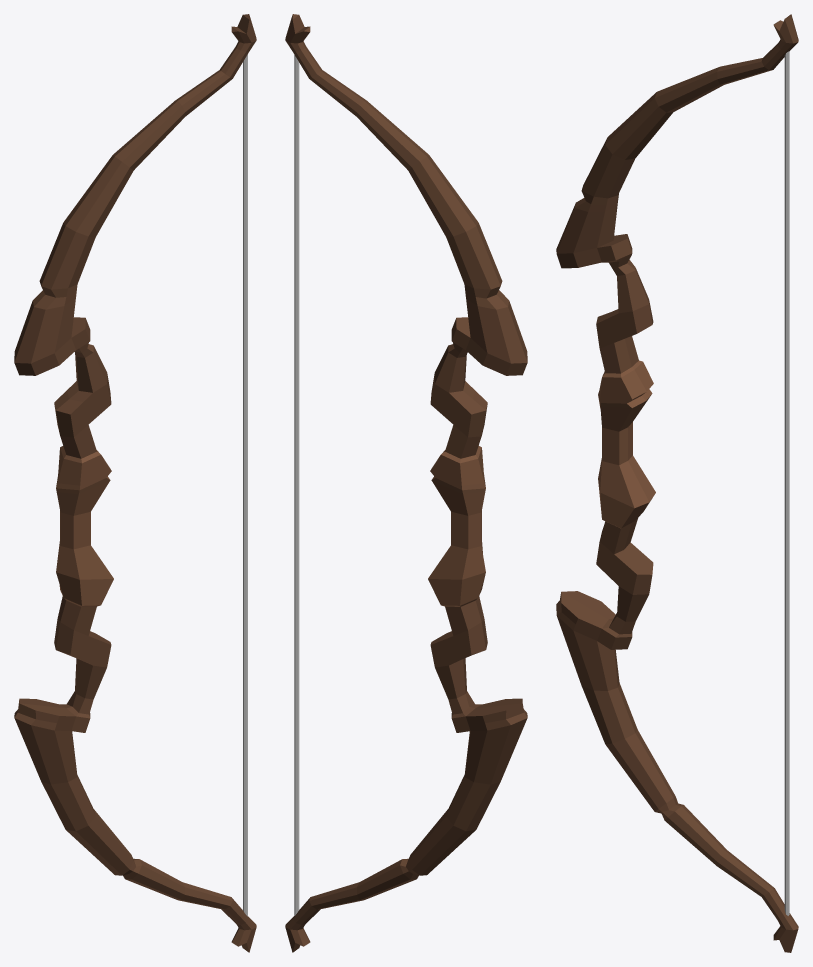
The model's file is Bow_Wooden.gltf.
The picture shows the model from 3 angles, left to right: view 1: azimuth 30°, elevation 25°; view 2: azimuth 150°, elevation 25°; view 3: azimuth 330°, elevation 25°; orthographic projection.
Visible parts, largest first — view 1: Bow_Wooden; view 2: Bow_Wooden; view 3: Bow_Wooden.
Boxes of the visible parts, x1=… form: Bow_Wooden: x1=14, y1=14, x2=256, y2=952; Bow_Wooden: x1=285, y1=14, x2=527, y2=952; Bow_Wooden: x1=556, y1=14, x2=798, y2=952.
Size of the model in its own units: 1.47 by 5.44 by 0.2434.
